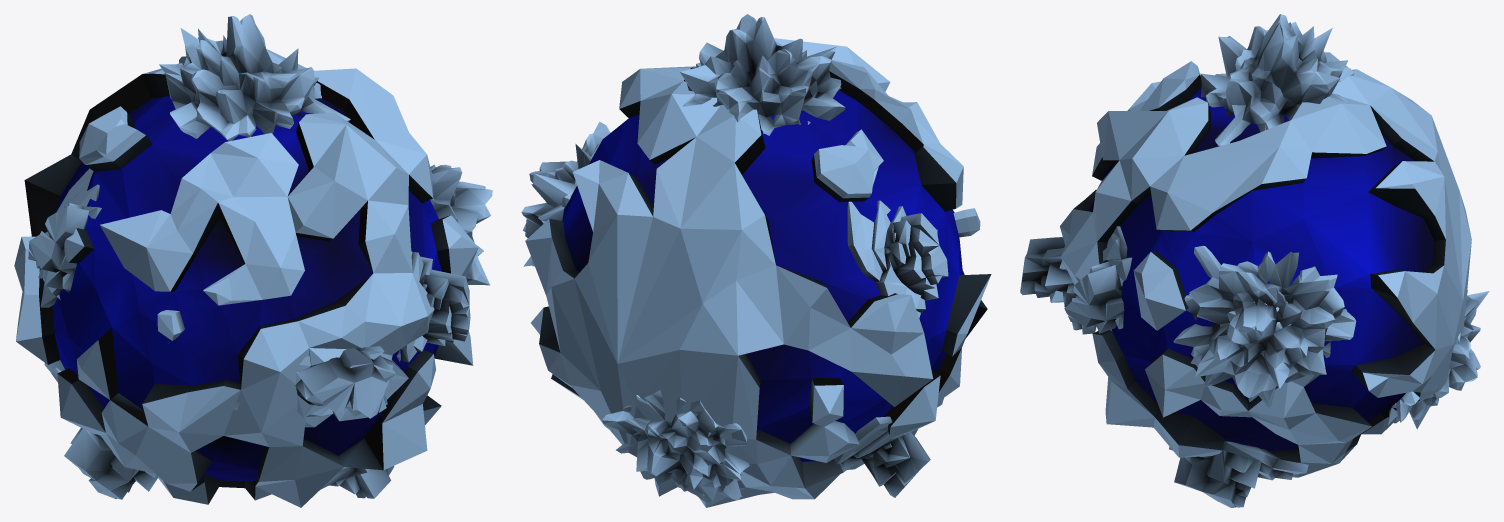
File: planeteduvers.fbx
3 views of the same model, side by side, from view 1: azimuth 30°, elevation 25°; view 2: azimuth 150°, elevation 25°; view 3: azimuth 270°, elevation 25° (orthographic). The views are drawn at different scales.
Visible parts, largest first — view 1: Sphere; view 2: Sphere; view 3: Sphere.
Boxes of the visible parts, box(x1,y1,x2,y2) form: Sphere: box(14, 14, 492, 507); Sphere: box(521, 14, 991, 507); Sphere: box(1020, 14, 1489, 507).
Bounding box in the file's own units: 112 × 118 × 113.
